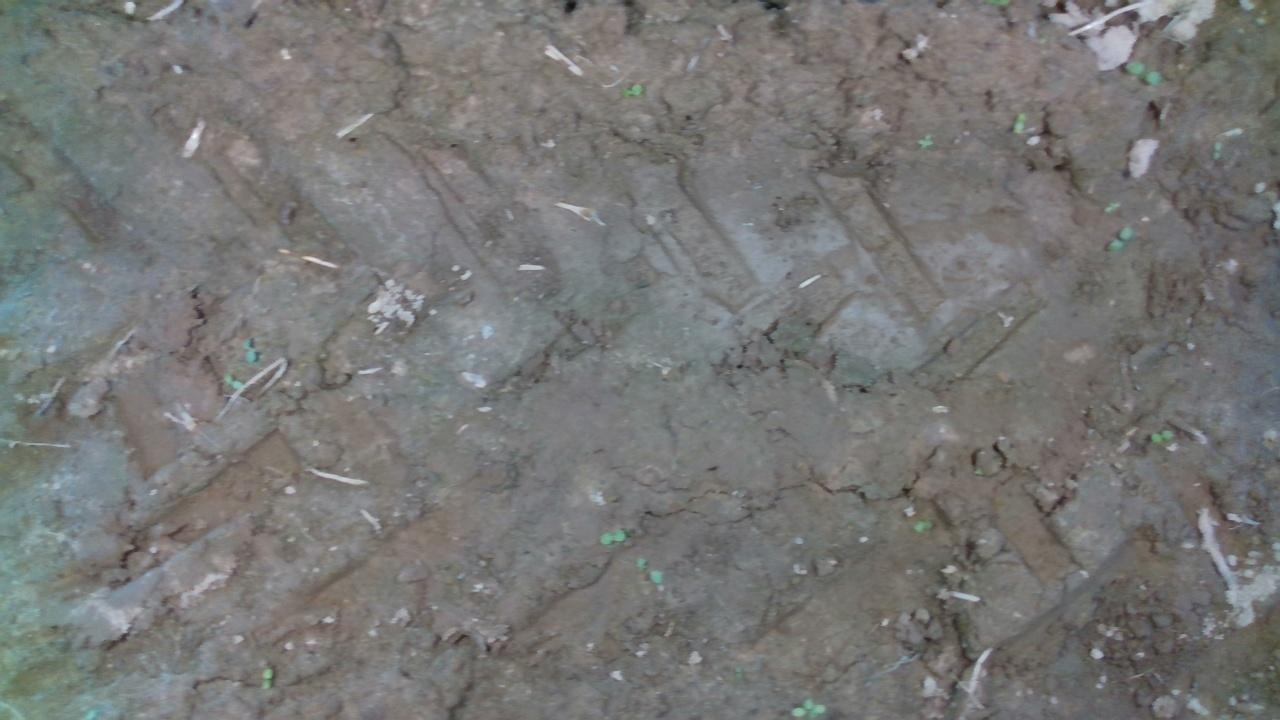weed: (1123, 59, 1162, 86), (1104, 225, 1132, 251), (790, 697, 826, 717), (597, 526, 625, 546), (241, 334, 257, 363), (258, 665, 273, 691), (1010, 110, 1026, 133), (1149, 427, 1172, 443), (916, 131, 933, 150), (1210, 140, 1222, 161), (1102, 200, 1120, 211)
